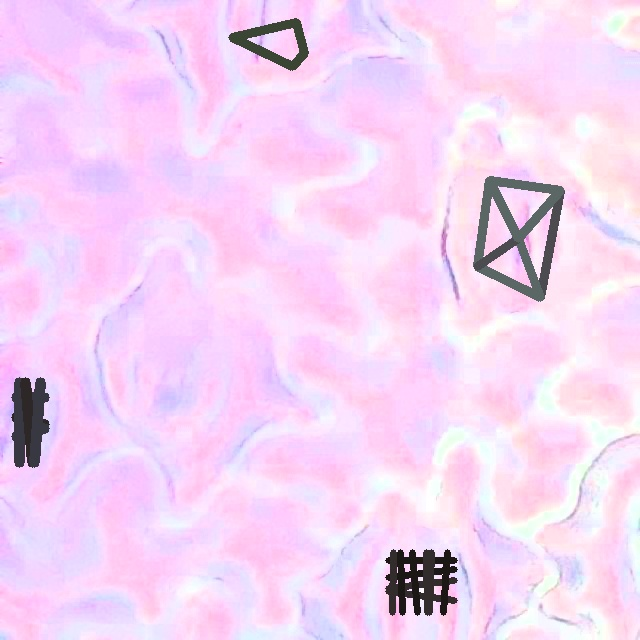close: (385, 549, 457, 615)
open: (473, 176, 564, 301), (228, 18, 308, 70), (11, 378, 48, 466)
